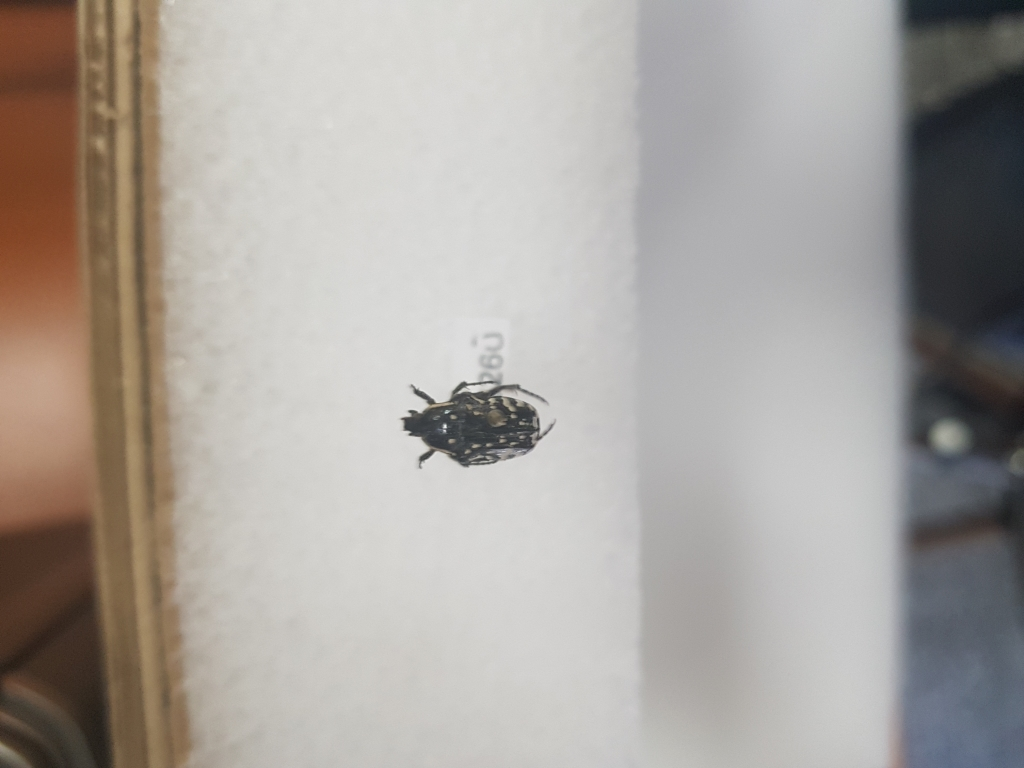Oxythyrea_funesta: (392, 374, 565, 474)
